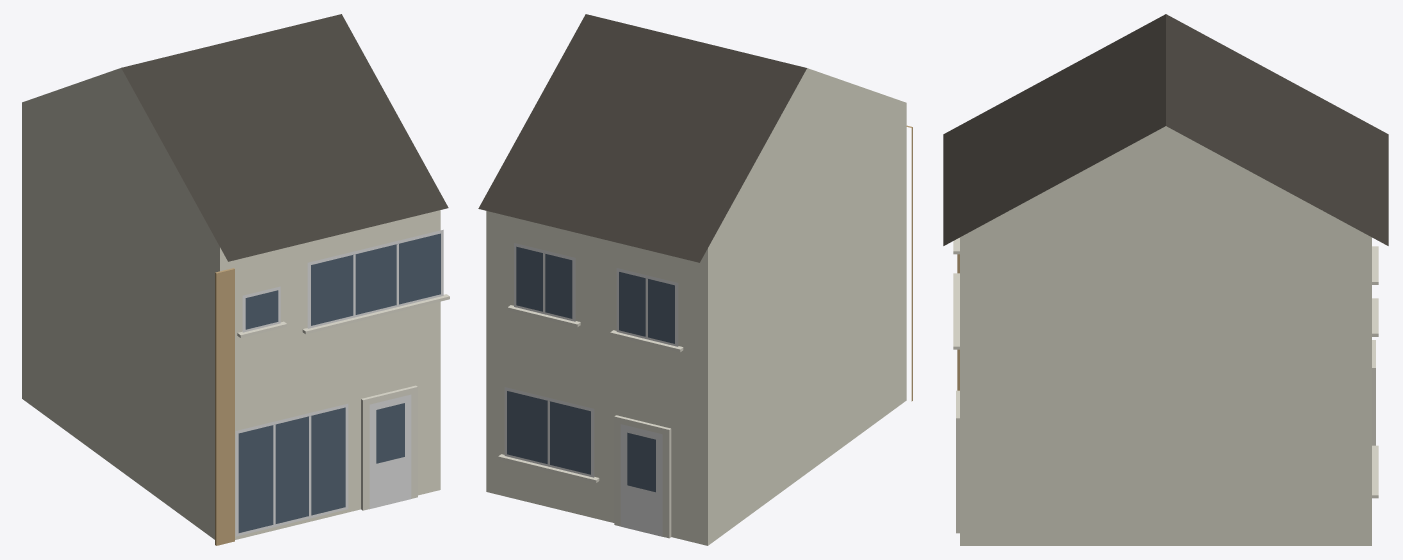
File: nw-rowhouse-render-pilaster__white__2__gable__long__solid.glb
3 views of the same model, side by side, from view 1: azimuth 30°, elevation 25°; view 2: azimuth 150°, elevation 25°; view 3: azimuth 270°, elevation 25° (orthographic). The views are drawn at different scales.
Visible parts, largest first — view 1: nw-rowhouse-render-pilaster__white__2__gable__long__solid; view 2: nw-rowhouse-render-pilaster__white__2__gable__long__solid; view 3: nw-rowhouse-render-pilaster__white__2__gable__long__solid.
Boxes of the visible parts, left/top/right/bottom form: nw-rowhouse-render-pilaster__white__2__gable__long__solid: left=22, top=14, right=449, bottom=545; nw-rowhouse-render-pilaster__white__2__gable__long__solid: left=478, top=14, right=912, bottom=545; nw-rowhouse-render-pilaster__white__2__gable__long__solid: left=943, top=14, right=1388, bottom=545.
Bounding box in the file's own units: 4.98 × 8.29 × 7.97.
